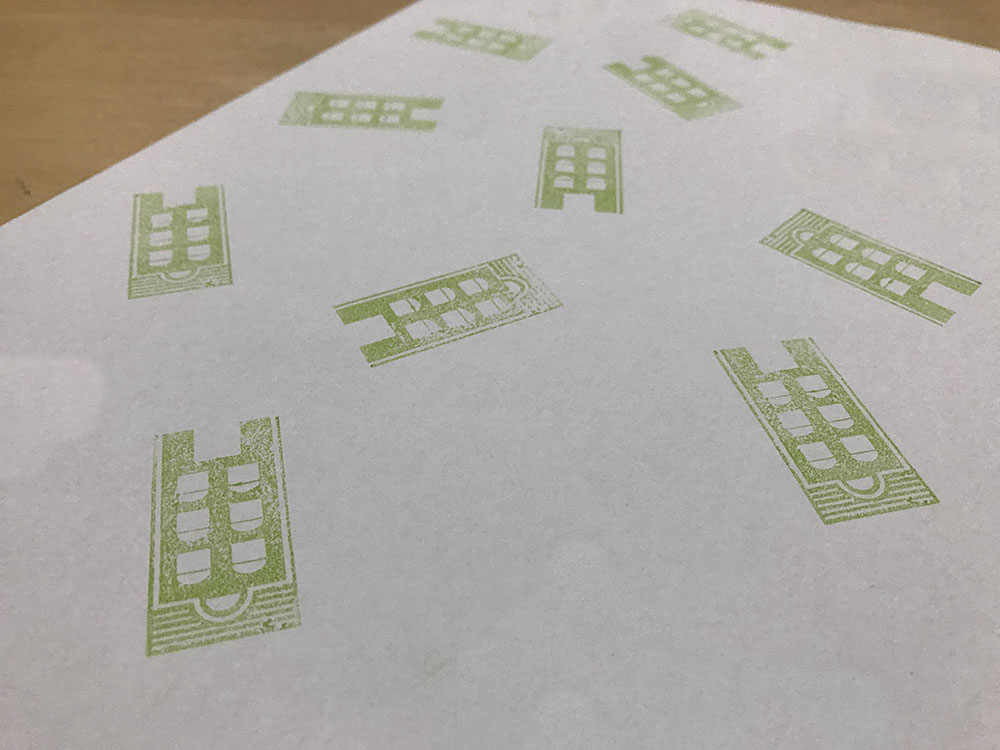build: (688, 329, 958, 558), (126, 401, 323, 686), (732, 189, 998, 333), (315, 245, 585, 380), (109, 176, 256, 320), (518, 111, 645, 229), (591, 44, 753, 131), (265, 80, 470, 148), (398, 6, 566, 80), (648, 1, 800, 66)
